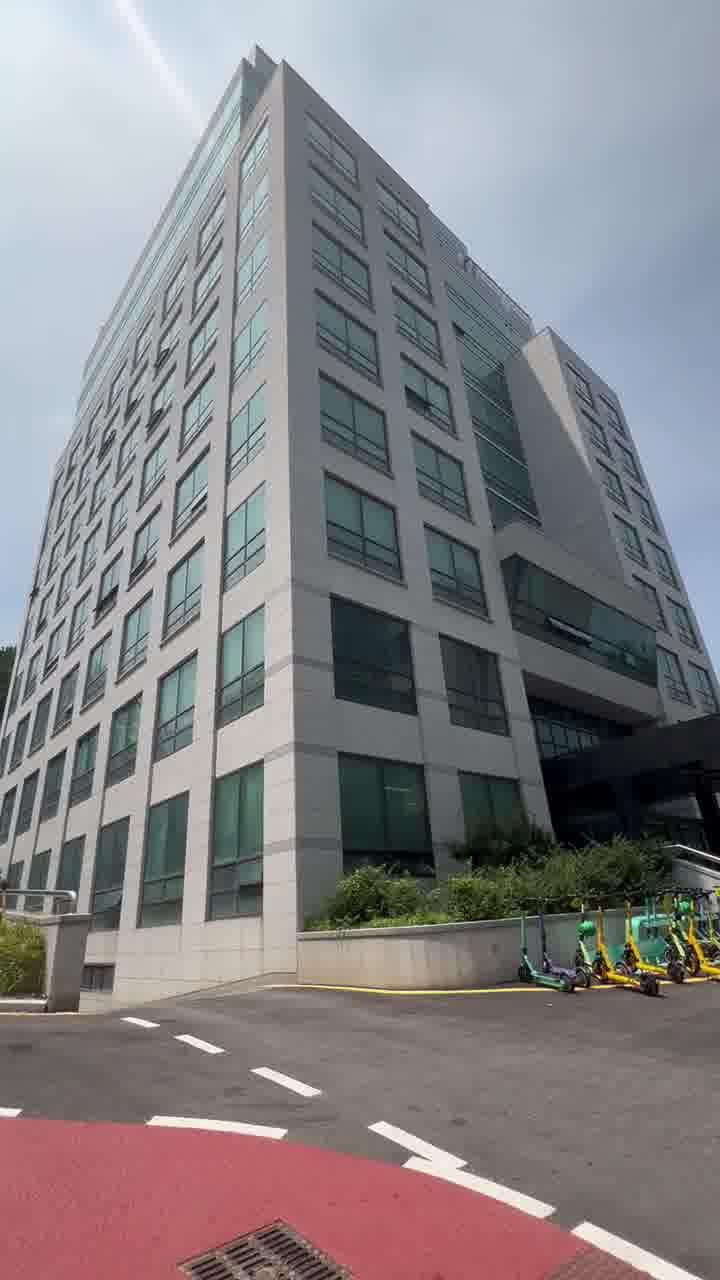building: (20, 68, 698, 874)
